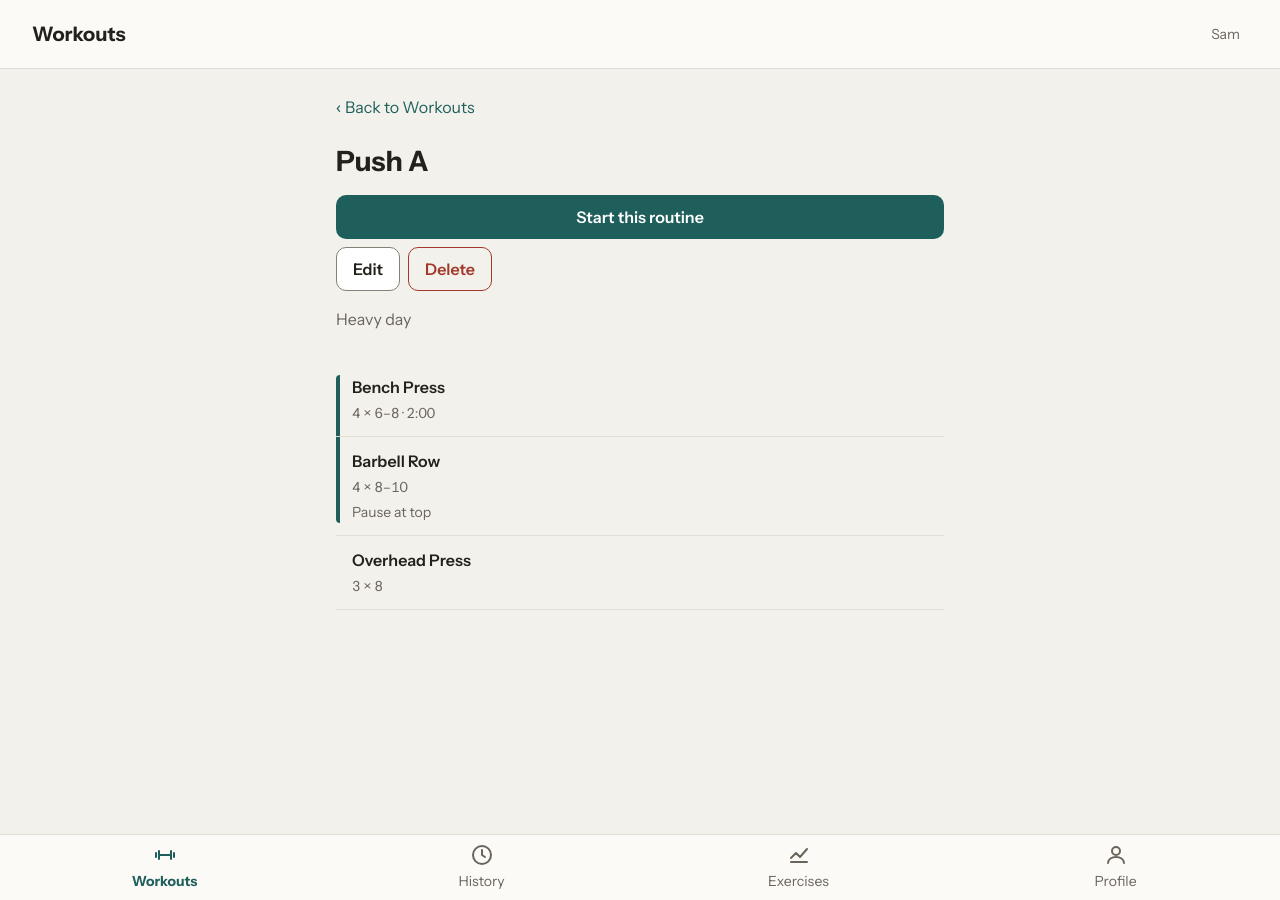
it: 10.0 AC20 — start success › sends routineId, ignores a double tap, replaces to the session, copies in order with groups
Step 1. Double-click the button "Start this routine" → (640, 217), box [336,195,944,239]
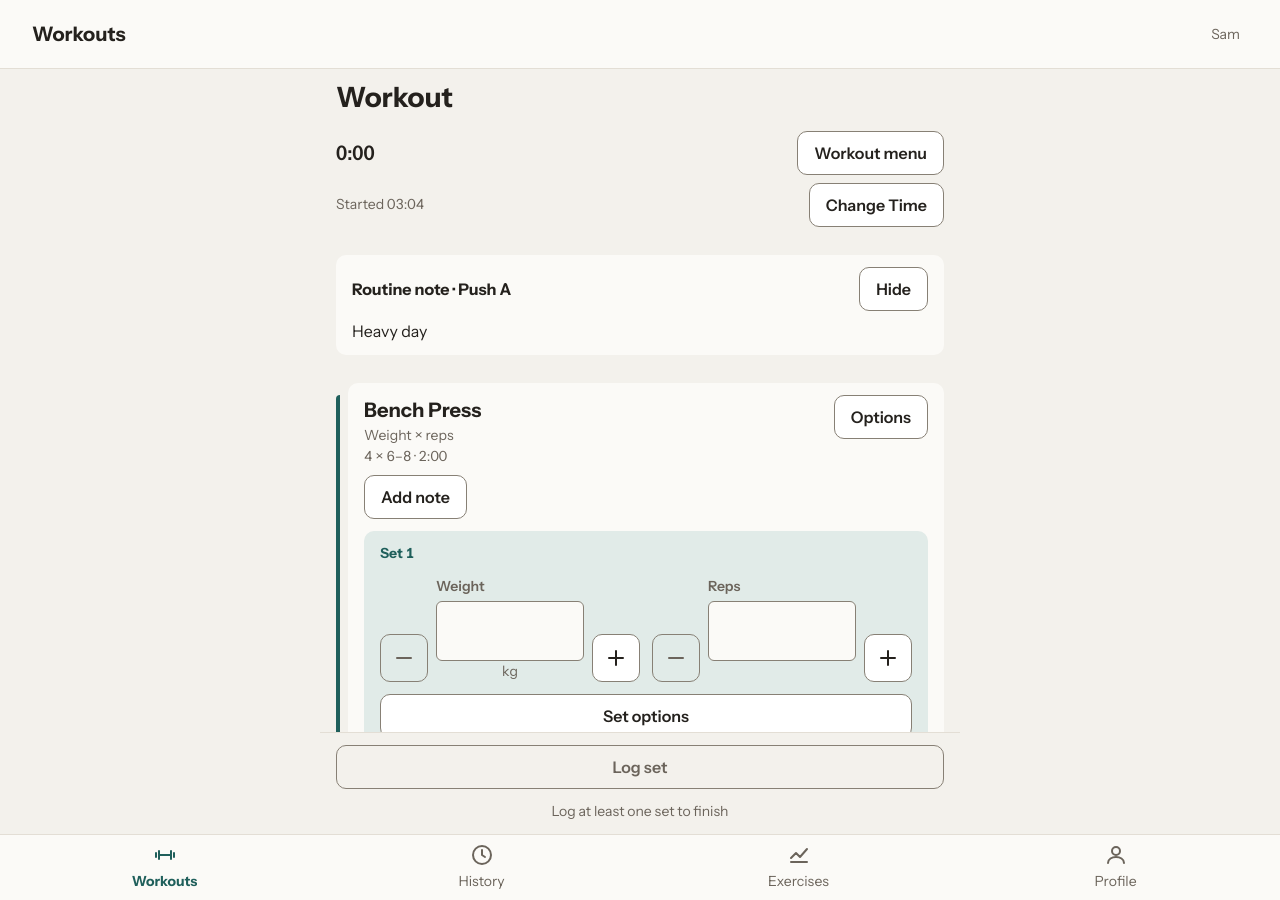
Expected: the heading "Workout" is shown, [336,80,453,114]
